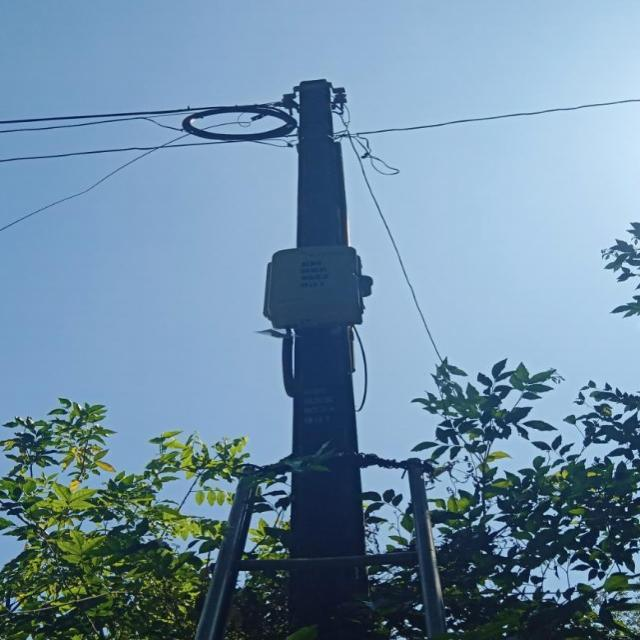light_pole: (278, 72, 385, 640)
